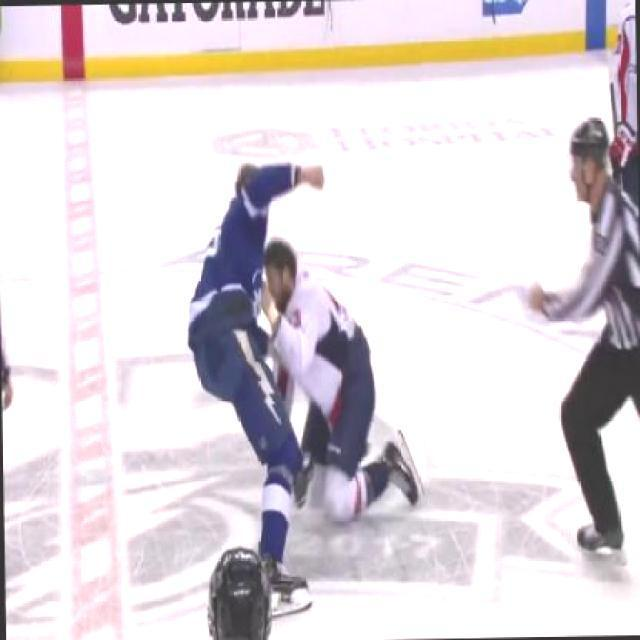fight: (178, 158, 424, 534)
